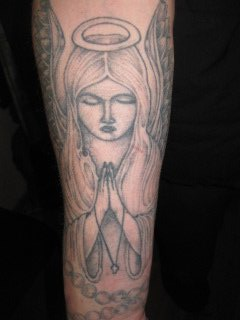tatu1_angel: (27, 1, 173, 288)
